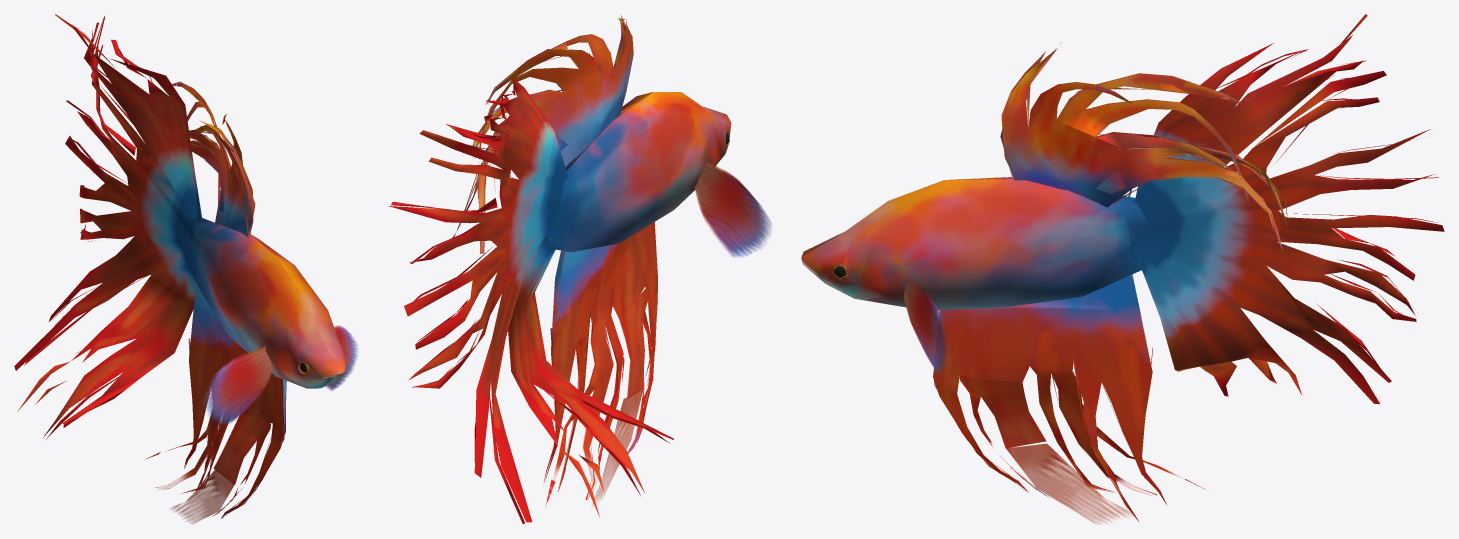
Rendered from red_betta_fish.glb.
3 views of the same model, side by side, from view 1: azimuth 30°, elevation 25°; view 2: azimuth 150°, elevation 25°; view 3: azimuth 270°, elevation 25° (orthographic). The views are drawn at different scales.
Visible parts, largest first — view 1: BackFin, Body, BottomFin, UpperFin, Fin_l, Fin_r; view 2: BackFin, Body, BottomFin, UpperFin, Fin_l; view 3: BackFin, Body, BottomFin, UpperFin, Fin_r.
Part boxes in pixels (bbox=[...]): BackFin: bbox=[14, 14, 201, 439]; Body: bbox=[184, 217, 346, 388]; BottomFin: bbox=[146, 281, 286, 523]; UpperFin: bbox=[172, 81, 255, 237]; Fin_l: bbox=[204, 345, 273, 424]; Fin_r: bbox=[326, 325, 357, 390]; BackFin: bbox=[388, 78, 673, 523]; Body: bbox=[548, 92, 731, 252]; BottomFin: bbox=[543, 222, 657, 507]; UpperFin: bbox=[452, 14, 633, 253]; Fin_l: bbox=[694, 160, 771, 257]; BackFin: bbox=[1128, 14, 1444, 403]; Body: bbox=[801, 177, 1150, 310]; BottomFin: bbox=[933, 274, 1205, 524]; UpperFin: bbox=[1000, 42, 1288, 250]; Fin_r: bbox=[903, 273, 946, 374].
Size of the model in its own units: 264 by 551 by 638.
Materials: 5 (5 with a texture image).
